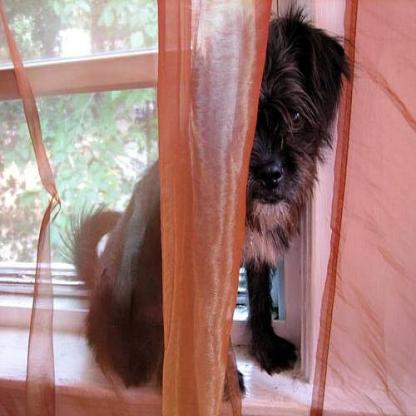affenpinscher: (54, 10, 341, 402)
